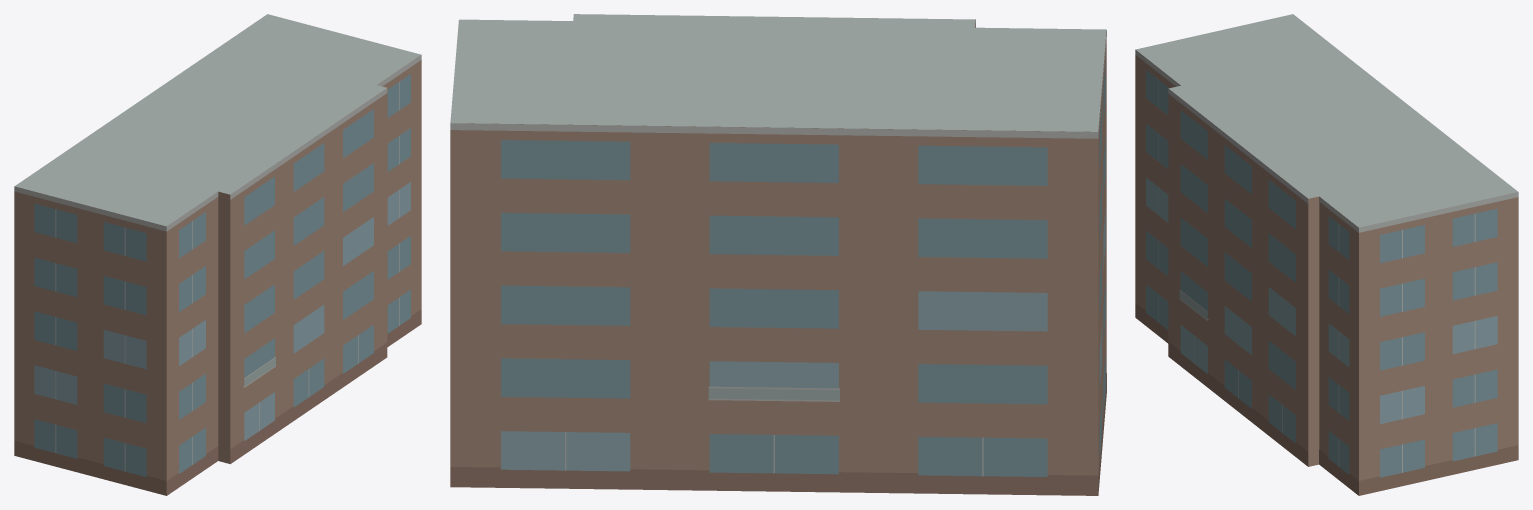
The model's file is survey-upis-32837275.glb.
3 renders of one model, left to right at view 1: azimuth 30°, elevation 25°; view 2: azimuth 150°, elevation 25°; view 3: azimuth 270°, elevation 25°, orthographic. The views are drawn at different scales.
Parts seen in each view (by area): view 1: survey-upis-32837275.tmp; view 2: survey-upis-32837275.tmp; view 3: survey-upis-32837275.tmp.
Boxes of the visible parts, left/top/right/bottom form: survey-upis-32837275.tmp: left=14, top=14, right=421, bottom=495; survey-upis-32837275.tmp: left=450, top=14, right=1106, bottom=495; survey-upis-32837275.tmp: left=1135, top=14, right=1518, bottom=495.
Size of the model in its own units: 21.98 by 12.85 by 16.65.
